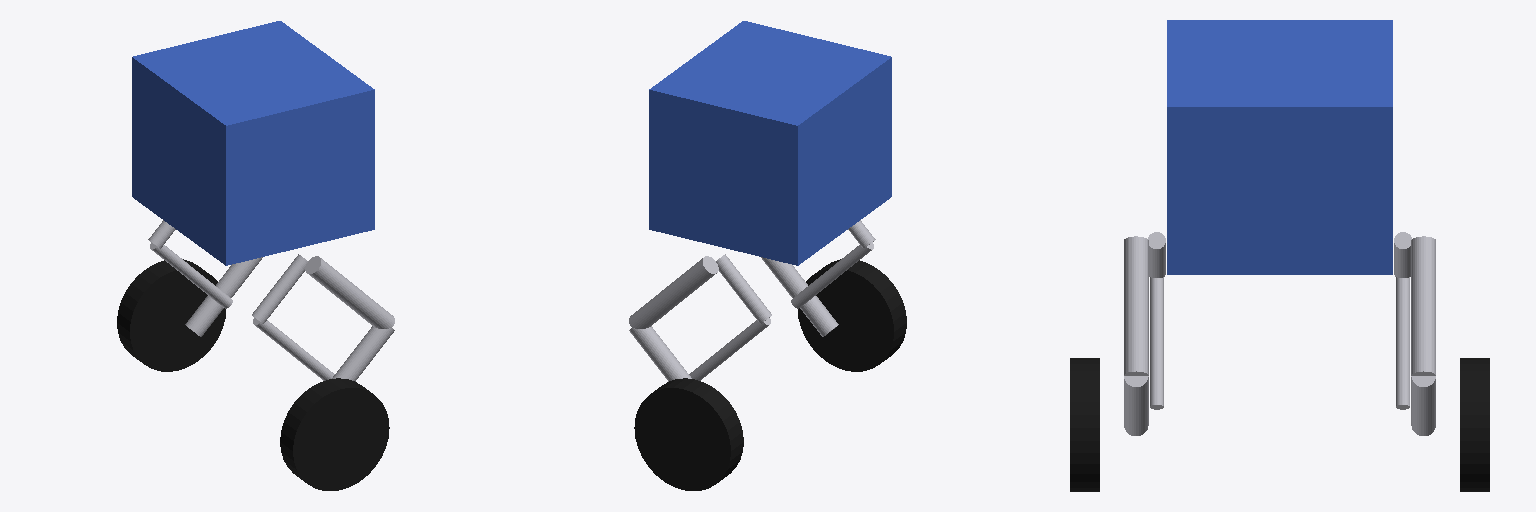
URDF robot description (diablo_lite):
<?xml version="1.0"?>
<robot name="diablo_lite">
  <material name="grey"><color rgba="0.75 0.75 0.78 1"/></material>
  <material name="blue"><color rgba="0.3 0.45 0.8 1"/></material>
  <material name="dark"><color rgba="0.15 0.15 0.15 1"/></material>
  <link name="base_link">
    <inertial><origin xyz="0 0 0.0526"/><mass value="3.8"/>
      <inertia ixx="4.560e-02" ixy="0" ixz="0" iyy="4.560e-02" iyz="0" izz="5.700e-02"/></inertial>
    <visual><origin xyz="0 0 0.1"/><geometry><box size="0.2 0.22 0.18"/></geometry><material name="blue"/></visual>
    <collision><origin xyz="0 0 0.1"/><geometry><box size="0.2 0.22 0.18"/></geometry></collision>
  </link>
  <link name="imu_link"/>
  <joint name="imu_joint" type="fixed"><parent link="base_link"/><child link="imu_link"/><origin xyz="0 0 0.05"/></joint>
  <link name="left_thigh"><inertial><origin xyz="0 0 -0.0700"/><mass value="0.25"/><inertia ixx="4.173e-04" ixy="0" ixz="0" iyy="4.173e-04" iyz="0" izz="1.800e-05"/></inertial><visual><origin xyz="0 0 -0.0700"/><geometry><cylinder radius="0.012" length="0.14"/></geometry><material name="grey"/></visual></link>
  <joint name="left_hip" type="revolute"><parent link="base_link"/><child link="left_thigh"/>
    <origin xyz="0 0.1400 0" rpy="0 -0.785398 0"/><axis xyz="0 1 0"/>
    <limit lower="-1.2" upper="1.0" effort="12.0" velocity="30"/></joint>
  <link name="left_shank"><inertial><origin xyz="0 0 -0.0700"/><mass value="0.25"/><inertia ixx="4.173e-04" ixy="0" ixz="0" iyy="4.173e-04" iyz="0" izz="1.800e-05"/></inertial><visual><origin xyz="0 0 -0.0700"/><geometry><cylinder radius="0.012" length="0.14"/></geometry><material name="grey"/></visual></link>
  <joint name="left_knee" type="revolute"><parent link="left_thigh"/><child link="left_shank"/>
    <origin xyz="0 0 -0.1400" rpy="0 1.570796 0"/><axis xyz="0 1 0"/>
    <limit lower="-2.5" upper="2.5" effort="0" velocity="30"/></joint>
  <link name="left_wheel">
    <inertial><mass value="0.5"/><inertia ixx="5.656e-04" ixy="0" ixz="0" iyy="1.056e-03" iyz="0" izz="5.656e-04"/></inertial>
    <visual><origin rpy="1.5707963 0 0"/><geometry><cylinder radius="0.065" length="0.03"/></geometry><material name="dark"/></visual>
    <collision><origin rpy="1.5707963 0 0"/><geometry><cylinder radius="0.065" length="0.03"/></geometry></collision>
  </link>
  <joint name="left_wheel" type="continuous"><parent link="left_shank"/><child link="left_wheel"/>
    <origin xyz="0 0.0500 -0.1400"/><axis xyz="0 1 0"/><limit effort="5.0" velocity="60"/></joint>
  <link name="left_crank"><inertial><origin xyz="0 0 -0.0450"/><mass value="0.05"/><inertia ixx="3.476e-05" ixy="0" ixz="0" iyy="3.476e-05" iyz="0" izz="2.025e-06"/></inertial><visual><origin xyz="0 0 -0.0450"/><geometry><cylinder radius="0.009" length="0.09"/></geometry><material name="grey"/></visual></link>
  <joint name="left_crank" type="revolute"><parent link="base_link"/><child link="left_crank"/>
    <origin xyz="0 0.1200 0" rpy="0 0.785398 0"/><axis xyz="0 1 0"/>
    <limit lower="-1.0" upper="1.2" effort="12.0" velocity="30"/></joint>
  <link name="left_rod"><inertial><origin xyz="0 0 -0.0700"/><mass value="0.05"/><inertia ixx="8.228e-05" ixy="0" ixz="0" iyy="8.228e-05" iyz="0" izz="1.225e-06"/></inertial><visual><origin xyz="0 0 -0.0700"/><geometry><cylinder radius="0.007" length="0.14"/></geometry><material name="grey"/></visual></link>
  <joint name="left_rod" type="revolute"><parent link="left_crank"/><child link="left_rod"/>
    <origin xyz="0 0 -0.0900" rpy="0 -1.570796 0"/><axis xyz="0 1 0"/>
    <limit lower="-2.5" upper="2.5" effort="0" velocity="30"/></joint>
  <link name="right_thigh"><inertial><origin xyz="0 0 -0.0700"/><mass value="0.25"/><inertia ixx="4.173e-04" ixy="0" ixz="0" iyy="4.173e-04" iyz="0" izz="1.800e-05"/></inertial><visual><origin xyz="0 0 -0.0700"/><geometry><cylinder radius="0.012" length="0.14"/></geometry><material name="grey"/></visual></link>
  <joint name="right_hip" type="revolute"><parent link="base_link"/><child link="right_thigh"/>
    <origin xyz="0 -0.1400 0" rpy="0 -0.785398 0"/><axis xyz="0 1 0"/>
    <limit lower="-1.2" upper="1.0" effort="12.0" velocity="30"/></joint>
  <link name="right_shank"><inertial><origin xyz="0 0 -0.0700"/><mass value="0.25"/><inertia ixx="4.173e-04" ixy="0" ixz="0" iyy="4.173e-04" iyz="0" izz="1.800e-05"/></inertial><visual><origin xyz="0 0 -0.0700"/><geometry><cylinder radius="0.012" length="0.14"/></geometry><material name="grey"/></visual></link>
  <joint name="right_knee" type="revolute"><parent link="right_thigh"/><child link="right_shank"/>
    <origin xyz="0 0 -0.1400" rpy="0 1.570796 0"/><axis xyz="0 1 0"/>
    <limit lower="-2.5" upper="2.5" effort="0" velocity="30"/></joint>
  <link name="right_wheel">
    <inertial><mass value="0.5"/><inertia ixx="5.656e-04" ixy="0" ixz="0" iyy="1.056e-03" iyz="0" izz="5.656e-04"/></inertial>
    <visual><origin rpy="1.5707963 0 0"/><geometry><cylinder radius="0.065" length="0.03"/></geometry><material name="dark"/></visual>
    <collision><origin rpy="1.5707963 0 0"/><geometry><cylinder radius="0.065" length="0.03"/></geometry></collision>
  </link>
  <joint name="right_wheel" type="continuous"><parent link="right_shank"/><child link="right_wheel"/>
    <origin xyz="0 -0.0500 -0.1400"/><axis xyz="0 1 0"/><limit effort="5.0" velocity="60"/></joint>
  <link name="right_crank"><inertial><origin xyz="0 0 -0.0450"/><mass value="0.05"/><inertia ixx="3.476e-05" ixy="0" ixz="0" iyy="3.476e-05" iyz="0" izz="2.025e-06"/></inertial><visual><origin xyz="0 0 -0.0450"/><geometry><cylinder radius="0.009" length="0.09"/></geometry><material name="grey"/></visual></link>
  <joint name="right_crank" type="revolute"><parent link="base_link"/><child link="right_crank"/>
    <origin xyz="0 -0.1200 0" rpy="0 0.785398 0"/><axis xyz="0 1 0"/>
    <limit lower="-1.0" upper="1.2" effort="12.0" velocity="30"/></joint>
  <link name="right_rod"><inertial><origin xyz="0 0 -0.0700"/><mass value="0.05"/><inertia ixx="8.228e-05" ixy="0" ixz="0" iyy="8.228e-05" iyz="0" izz="1.225e-06"/></inertial><visual><origin xyz="0 0 -0.0700"/><geometry><cylinder radius="0.007" length="0.14"/></geometry><material name="grey"/></visual></link>
  <joint name="right_rod" type="revolute"><parent link="right_crank"/><child link="right_rod"/>
    <origin xyz="0 0 -0.0900" rpy="0 -1.570796 0"/><axis xyz="0 1 0"/>
    <limit lower="-2.5" upper="2.5" effort="0" velocity="30"/></joint>
</robot>

--- Render facts (derived) ---
Views: 3 orthographic renders of the robot side by side, from view 1: azimuth 30°, elevation 25°; view 2: azimuth 150°, elevation 25°; view 3: azimuth 270°, elevation 25°.
Model diablo_lite with 12 links and 11 joints (8 revolute, 2 continuous, 1 fixed), rooted at base_link, posed all joints at 0.
Links seen in each view (by area): view 1: base_link, right_wheel, left_wheel, right_thigh, left_shank, right_shank, right_crank, left_rod, right_rod; view 2: base_link, left_wheel, right_wheel, left_thigh, right_shank, left_shank, left_crank, right_rod, left_rod; view 3: base_link, left_wheel, right_wheel, left_thigh, right_thigh, left_rod, right_rod, left_shank, right_shank, left_crank, right_crank.
Link boxes in pixels (bbox=[...]): base_link: bbox=[132, 21, 374, 265]; right_wheel: bbox=[280, 378, 389, 490]; left_wheel: bbox=[117, 259, 225, 371]; right_thigh: bbox=[305, 256, 394, 328]; left_shank: bbox=[185, 257, 262, 336]; right_shank: bbox=[332, 326, 394, 381]; right_crank: bbox=[252, 254, 307, 323]; left_rod: bbox=[150, 242, 232, 308]; right_rod: bbox=[253, 318, 334, 380]; base_link: bbox=[649, 21, 891, 265]; left_wheel: bbox=[634, 378, 743, 490]; right_wheel: bbox=[798, 259, 906, 371]; left_thigh: bbox=[629, 256, 718, 328]; right_shank: bbox=[761, 257, 838, 336]; left_shank: bbox=[629, 326, 691, 381]; left_crank: bbox=[716, 254, 771, 323]; right_rod: bbox=[791, 242, 873, 308]; left_rod: bbox=[689, 318, 770, 380]; base_link: bbox=[1167, 20, 1392, 274]; left_wheel: bbox=[1460, 358, 1489, 491]; right_wheel: bbox=[1070, 358, 1099, 491]; left_thigh: bbox=[1411, 236, 1435, 375]; right_thigh: bbox=[1124, 236, 1148, 375]; left_rod: bbox=[1396, 277, 1409, 409]; right_rod: bbox=[1150, 277, 1163, 409]; left_shank: bbox=[1411, 376, 1435, 435]; right_shank: bbox=[1124, 376, 1148, 435]; left_crank: bbox=[1394, 232, 1411, 277]; right_crank: bbox=[1148, 232, 1165, 277].
Bounding box of the posed robot: 0.2075 × 0.41 × 0.453 m (x, y, z).
Geometry: primitives only (box / cylinder / sphere), no mesh files.
